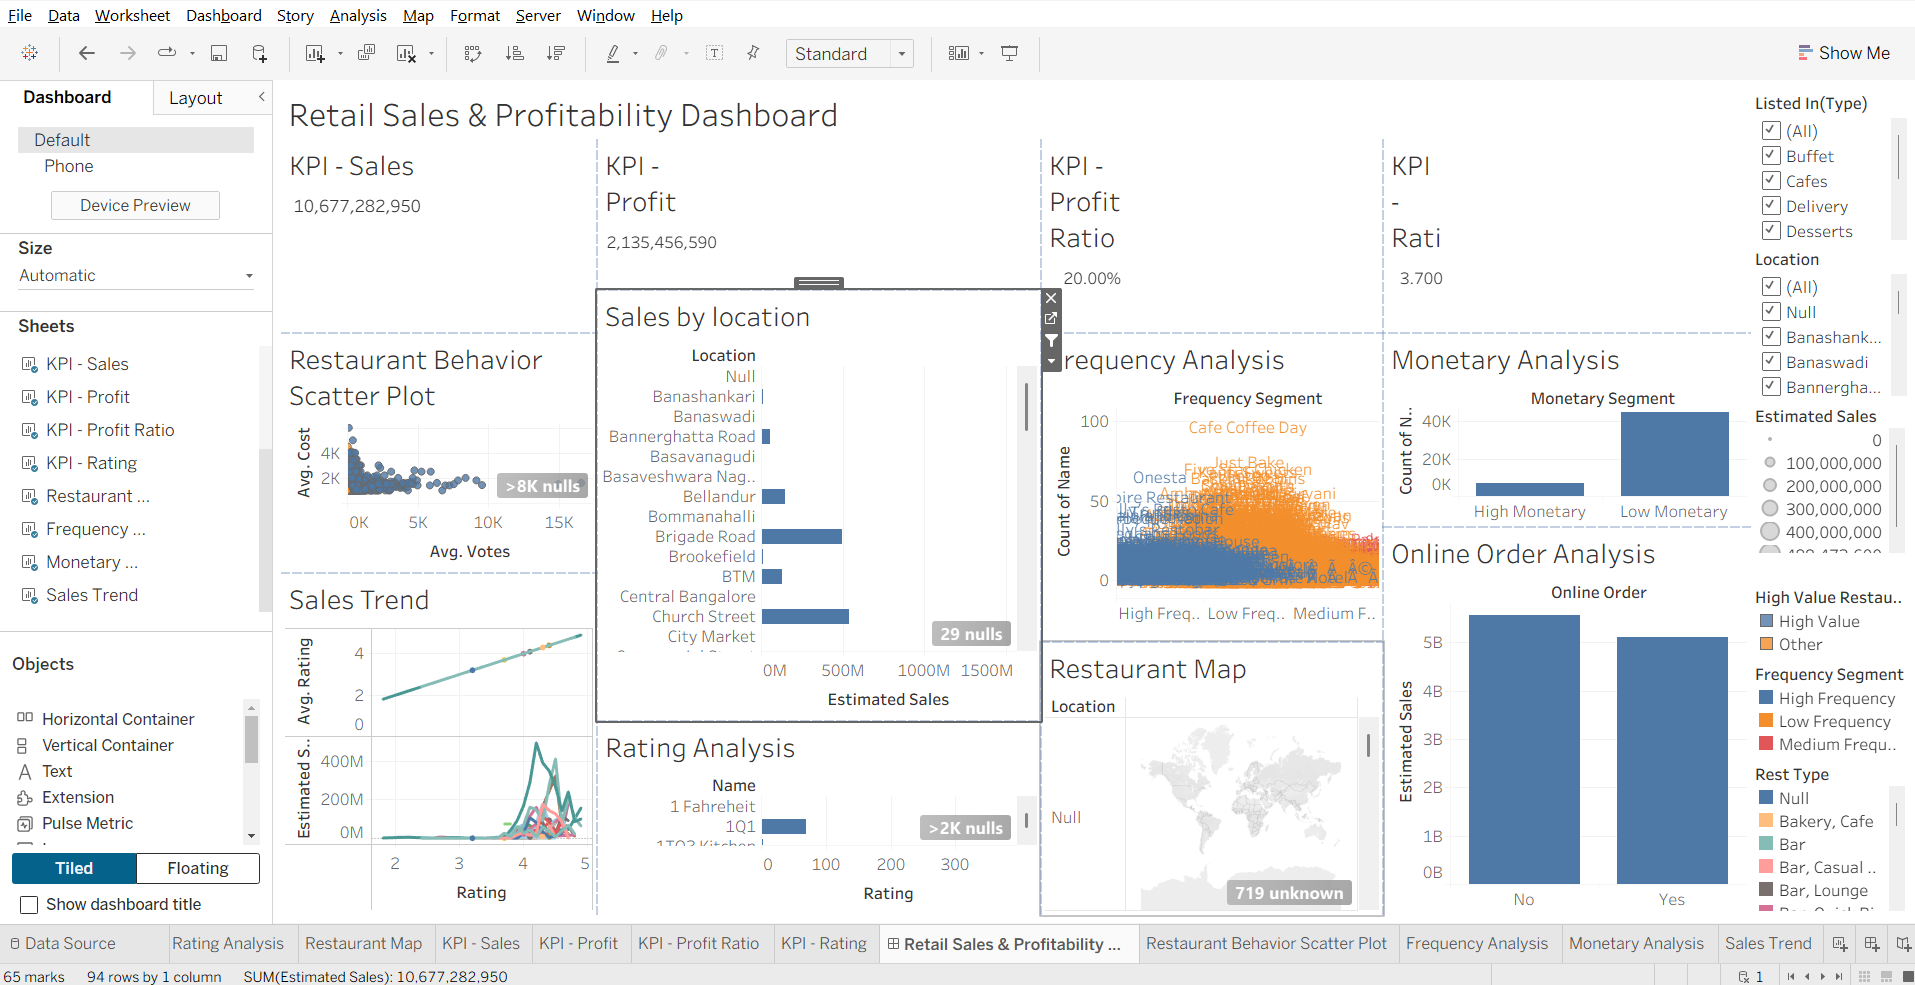

The dashboard page shown, as its layout file describes it:
{"tool":"tableau","page":{"name":"Retail Sales & Profitability Dashboard","canvas":[1000,1000],"units":"permille","ordinal":0},"visuals":[{"type":"title","box":[4.9,9.5,893.1,60.5]},{"type":"filter","title":"Sales by location","param":"[federated.0tryc3z1h5v77x1bwutcy0hll2e9].[none:listed_in(type):nk]","box":[897.9,9.5,97.2,267.5]},{"type":"worksheet","title":"KPI - Sales","mark":"Text","box":[4.9,70,164,230.1]},{"type":"worksheet","title":"KPI - Profit","mark":"Automatic","box":[168.9,70,297.7,263.3]},{"type":"worksheet","title":"KPI - Profit Ratio","mark":"Automatic","box":[466.6,70,208.1,230.1]},{"type":"worksheet","title":"KPI - Rating","mark":"Automatic","box":[674.7,70,223.3,230.1]},{"type":"filter","title":"Sales by location","param":"[federated.0tryc3z1h5v77x1bwutcy0hll2e9].[none:location:nk]","box":[897.9,277,97.2,267.5]},{"type":"worksheet","title":"Restaurant Behavior Scatter Plot","mark":"Multipolygon","rows":["Calculation_0986863158849536"],"cols":["votes"],"box":[4.9,300.1,164,230.1]},{"type":"worksheet","title":"Frequency Analysis","mark":"Text","rows":["name"],"cols":["Calculation_0986863169785861"],"box":[466.6,300.1,208.1,366.6]},{"type":"worksheet","title":"Monetary Analysis","mark":"Automatic","rows":["name"],"cols":["Calculation_0986863210250247"],"box":[674.7,300.1,223.3,230.1]},{"type":"worksheet","title":"Sales by location","mark":"Automatic","rows":["location"],"cols":["Calculation_0986863160111105"],"box":[168.9,333.3,297.7,427.1]},{"type":"worksheet","title":"Sales by Category","mark":"Automatic","rows":["listed_in(type)"],"cols":["Calculation_0986863160111105"],"box":[4.9,530.2,164,460.3]},{"type":"worksheet","title":"Online Order Analysis","mark":"Automatic","rows":["Calculation_0986863160111105"],"cols":["online_order"],"box":[674.7,530.2,223.3,460.3]},{"type":"legend","title":"Restaurant Map","param":"[federated.0tryc3z1h5v77x1bwutcy0hll2e9].[sum:Calculation_0986863160111105:qk]","box":[897.9,544.5,97.2,145.9]},{"type":"worksheet","title":"Restaurant Map","mark":"Multipolygon","box":[466.6,666.7,208.1,323.8]},{"type":"legend","title":"Restaurant Map","param":"[federated.0tryc3z1h5v77x1bwutcy0hll2e9].[sum:Calculation_0986863160209410:qk]","box":[897.9,690.4,97.2,90.2]},{"type":"worksheet","title":"Rating Analysis","mark":"Automatic","rows":["name"],"cols":["Calculation_0986863161196548"],"box":[168.9,760.4,297.7,230.1]},{"type":"legend","title":"Restaurant Behavior Scatter Plot","param":"[federated.0tryc3z1h5v77x1bwutcy0hll2e9].[none:Calculation_0986863214563337:nk]","box":[897.9,780.6,97.2,91.3]},{"type":"legend","title":"Frequency Analysis","param":"[federated.0tryc3z1h5v77x1bwutcy0hll2e9].[none:Calculation_0986863169785861:nk]","box":[897.9,871.9,97.2,118.6]}]}

Visuals, with their boxes on the dashboard's canvas, which has no fixed pixel size, in thousandths of its width and height (x1, y1, x2, y2). These are canvas units, not pixel positions in the 1915x985 screenshot, which may show the page scaled, cropped or inside an application window:
title: (5, 10, 898, 70)
"Sales by location" filter: (898, 10, 995, 277)
"KPI - Sales" worksheet (Text marks): (5, 70, 169, 300)
"KPI - Profit" worksheet: (169, 70, 467, 333)
"KPI - Profit Ratio" worksheet: (467, 70, 675, 300)
"KPI - Rating" worksheet: (675, 70, 898, 300)
"Sales by location" filter: (898, 277, 995, 544)
"Restaurant Behavior Scatter Plot" worksheet (Multipolygon marks): (5, 300, 169, 530)
"Frequency Analysis" worksheet (Text marks): (467, 300, 675, 667)
"Monetary Analysis" worksheet: (675, 300, 898, 530)
"Sales by location" worksheet: (169, 333, 467, 760)
"Sales by Category" worksheet: (5, 530, 169, 990)
"Online Order Analysis" worksheet: (675, 530, 898, 990)
"Restaurant Map" legend: (898, 544, 995, 690)
"Restaurant Map" worksheet (Multipolygon marks): (467, 667, 675, 990)
"Restaurant Map" legend: (898, 690, 995, 781)
"Rating Analysis" worksheet: (169, 760, 467, 990)
"Restaurant Behavior Scatter Plot" legend: (898, 781, 995, 872)
"Frequency Analysis" legend: (898, 872, 995, 990)
